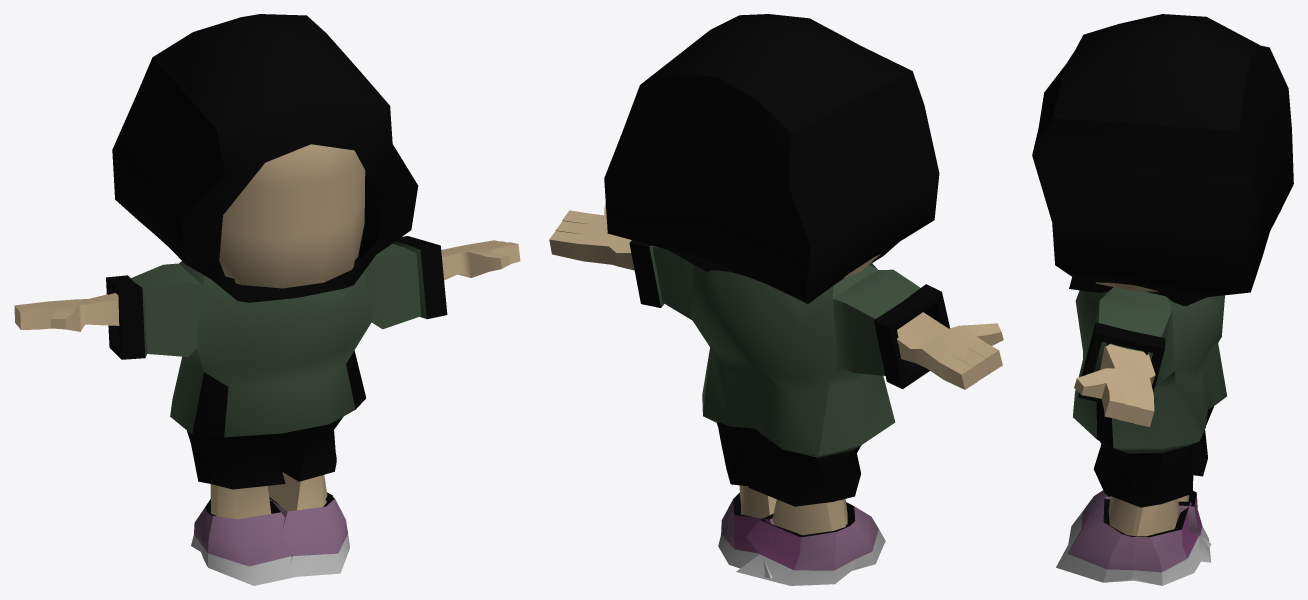
Rendered from Charlie_upload.fbx.
The picture shows the model from 3 angles, left to right: view 1: azimuth 30°, elevation 25°; view 2: azimuth 150°, elevation 25°; view 3: azimuth 270°, elevation 25°; orthographic projection. The views are drawn at different scales.
Parts seen in each view (by area): view 1: Charlie_Upload_Mesh; view 2: Charlie_Upload_Mesh; view 3: Charlie_Upload_Mesh.
Boxes of the visible parts, x1,y1,x2,y2 form: Charlie_Upload_Mesh: [14, 14, 520, 585]; Charlie_Upload_Mesh: [549, 14, 1003, 585]; Charlie_Upload_Mesh: [1032, 14, 1293, 585].
Bounding box in the file's own units: 6.41 × 6.9 × 3.08.
